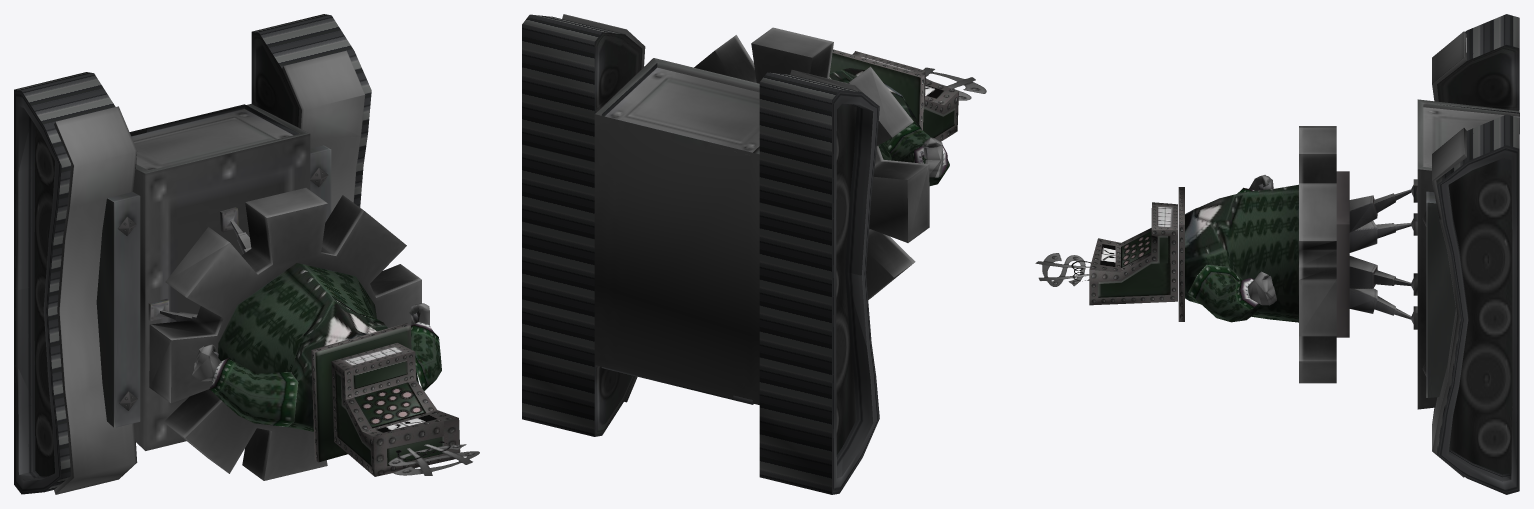
The model's file is cashbot_boss.glb.
3 renders of one model, left to right at view 1: azimuth 30°, elevation 25°; view 2: azimuth 150°, elevation 25°; view 3: azimuth 270°, elevation 25°, orthographic. The views are drawn at different scales.
Visible parts, largest first — view 1: joint_axle, joint_pelvis, bossCog-torso, bossCog-head, right_side, right_tread, DoorFront, left_tread, joint35; view 2: joint_axle, right_tread, left_tread, joint_pelvis, right_side, DoorFront, bossCog-head, bossCog-torso, joint35; view 3: joint_axle, bossCog-torso, joint_pelvis, bossCog-head, left_side, bossCog-legs, joint_legs, DoorFront, left_tread, right_tread, joint35.
Boxes of the visible parts, x1,y1,x2,y2 form: joint_axle: (34,32,365,494); joint_pelvis: (149,188,421,480); bossCog-torso: (192,263,441,431); bossCog-head: (311,323,460,476); right_side: (14,89,61,494); right_tread: (15,72,115,491); DoorFront: (129,104,299,170); left_tread: (252,14,371,207); joint35: (388,441,479,475); joint_axle: (562,14,862,454); right_tread: (759,72,861,494); left_tread: (522,14,623,436); joint_pelvis: (694,27,929,299); right_side: (832,90,879,494); DoorFront: (601,63,759,152); bossCog-head: (829,49,958,144); bossCog-torso: (829,68,949,185); joint35: (923,67,986,100); joint_axle: (1417,31,1519,477); bossCog-torso: (1185,175,1298,322); joint_pelvis: (1299,126,1336,383); bossCog-head: (1089,187,1184,321); left_side: (1437,145,1519,494); bossCog-legs: (1349,195,1377,313); joint_legs: (1336,171,1349,337); DoorFront: (1423,104,1519,167); left_tread: (1437,114,1519,454); right_tread: (1465,14,1519,60); joint35: (1035,253,1091,286).
Bounding box in the file's own units: 16.61 × 20.66 × 25.94.
15 materials, 13 textured.
